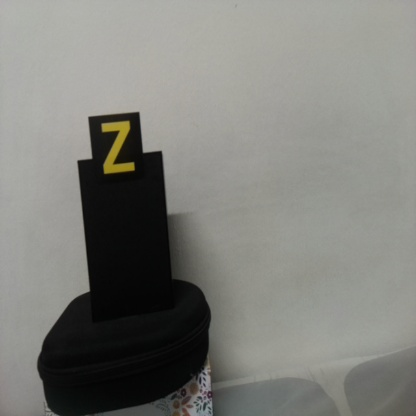id_15: (89, 115, 143, 183)
